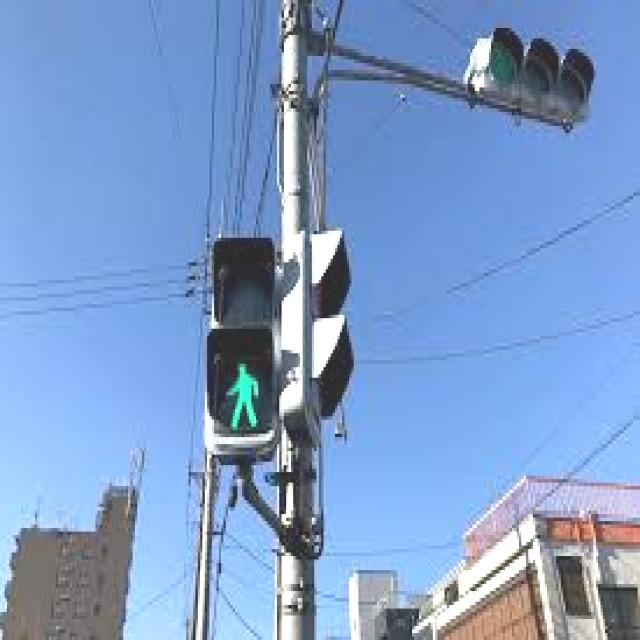trafficlight: (202, 238, 277, 454)
